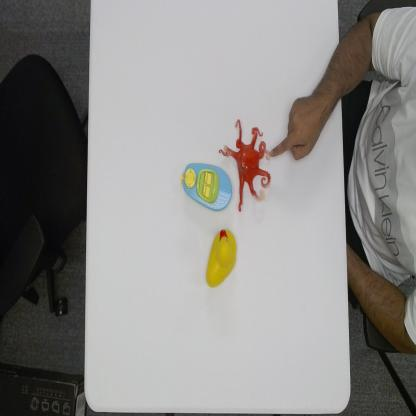Arm: (322, 27, 349, 115)
Boat: (180, 161, 233, 212)
Duck: (205, 226, 237, 289)
Hand: (269, 86, 325, 162)
Octopus: (219, 116, 271, 211)
